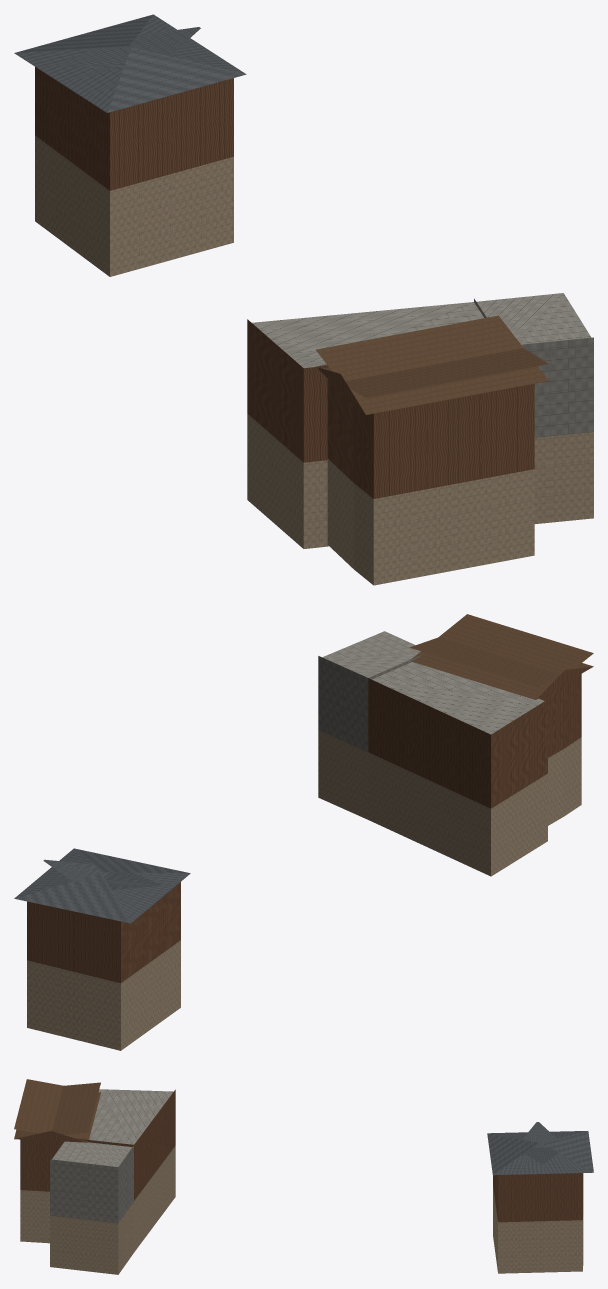
The model's file is bld_c36_-26_443.gltf.
3 views of the same model, one above another, from view 1: azimuth 30°, elevation 25°; view 2: azimuth 150°, elevation 25°; view 3: azimuth 270°, elevation 25° (orthographic). The views are drawn at different scales.
Parts seen in each view (by area): view 1: bld_c36_-26_443; view 2: bld_c36_-26_443; view 3: bld_c36_-26_443.
Part boxes in pixels (x1,y1,x2,y2): bld_c36_-26_443: (14,14,593,585); bld_c36_-26_443: (14,614,593,1050); bld_c36_-26_443: (14,1079,593,1274).
Bounding box in the file's own units: 17.07 × 11.7 × 52.07.
8 materials, 8 textured.
